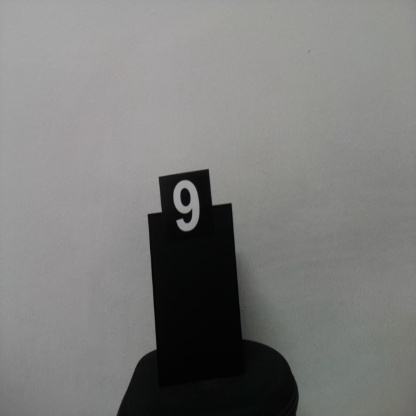id_9: (160, 176, 212, 246)
